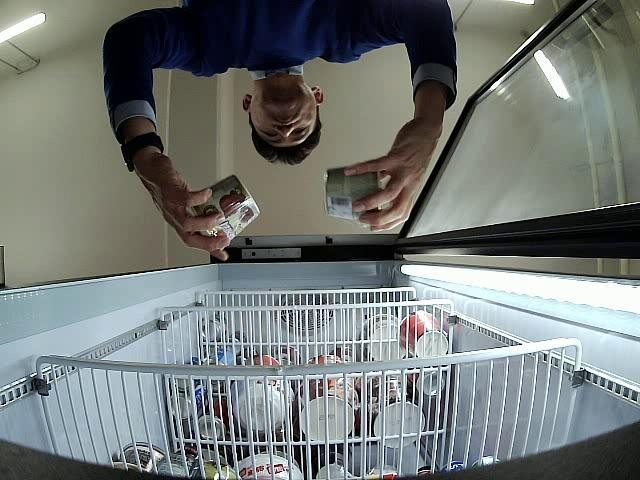04_chapagetti_S: (188, 177, 260, 241), (324, 162, 382, 221)
